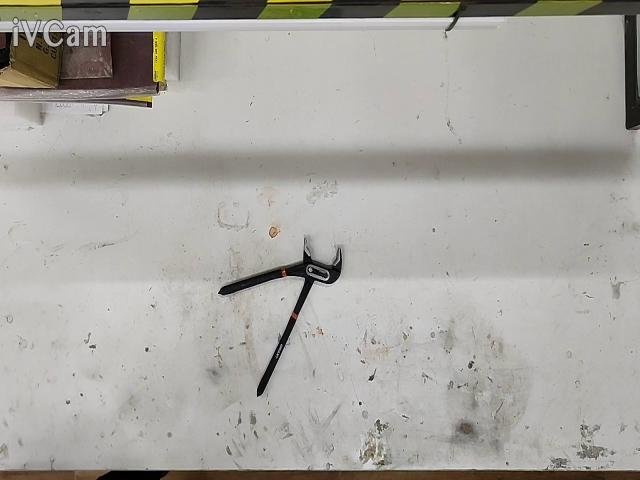Gas wrench: (219, 238, 342, 396)
